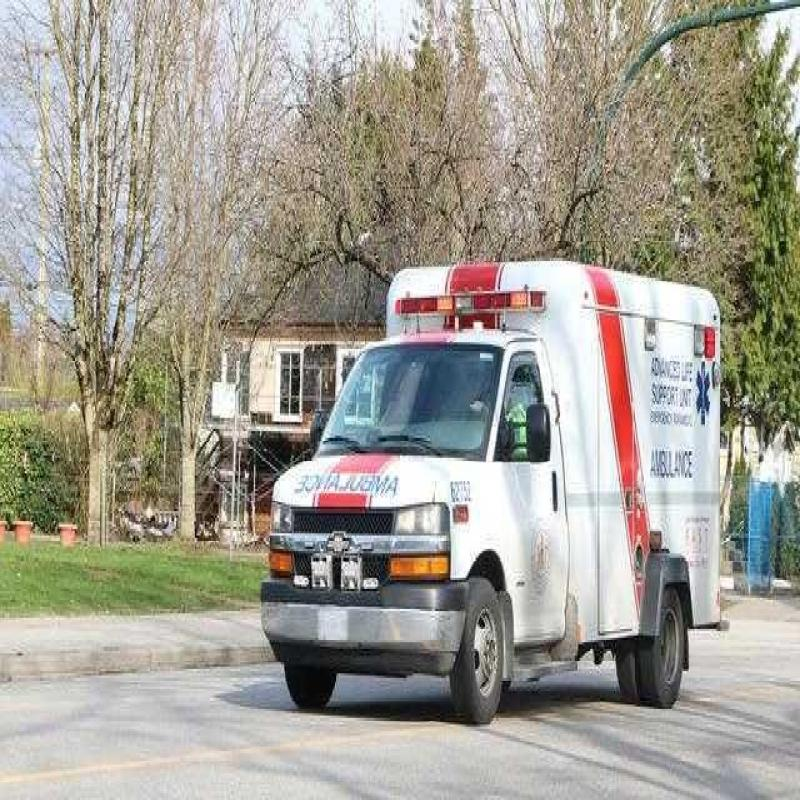AmbulanceSiren: (391, 277, 550, 343)
